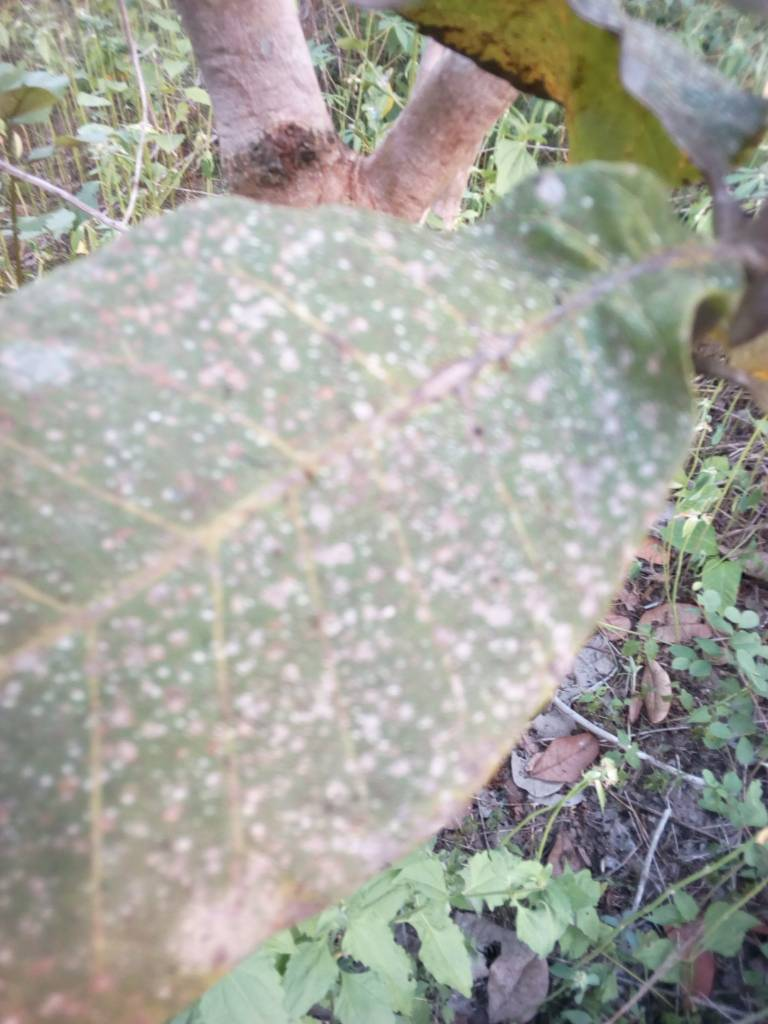Oidium: (1, 124, 711, 1022)
